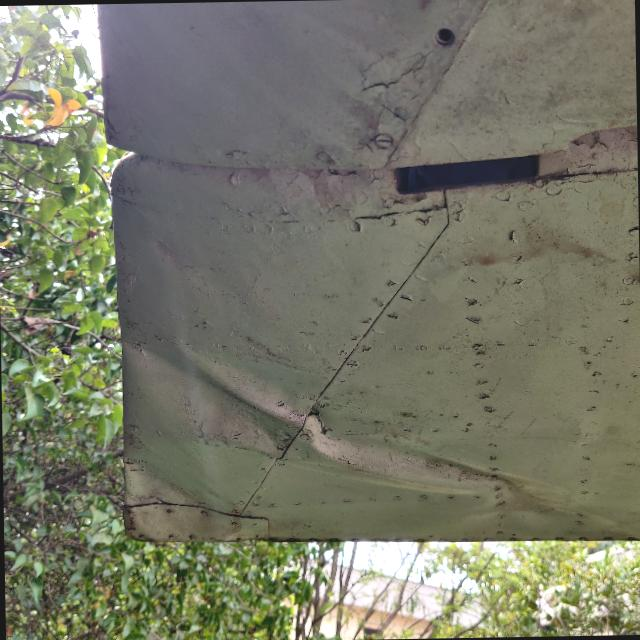dent: (166, 323, 384, 492), (412, 437, 622, 550)
